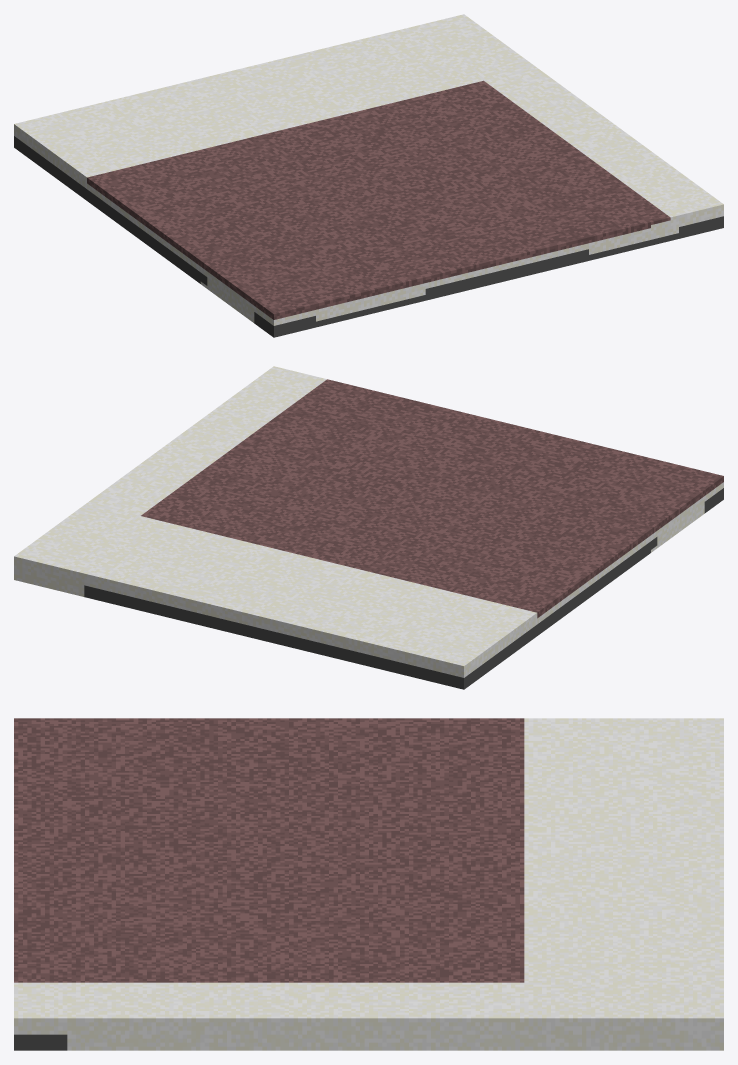
The model's file is pathway castle2.11.obj.
The picture shows the model from 3 angles, top to bottom: view 1: azimuth 30°, elevation 25°; view 2: azimuth 150°, elevation 25°; view 3: azimuth 270°, elevation 25°; orthographic projection. The views are drawn at different scales.
Size of the model in its own units: 16 by 0.8 by 16.
Materials: 1 (1 with a texture image).
